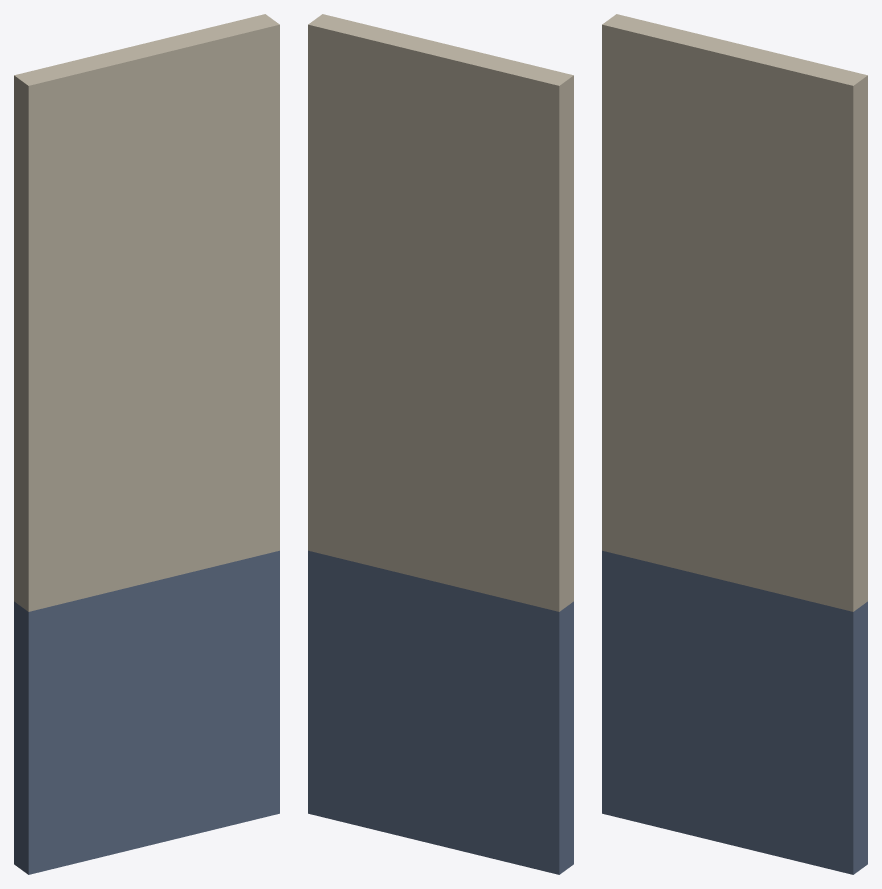
File: Mesh_Wall2Colors_F1.fbx
3 views of the same model, side by side, from view 1: azimuth 30°, elevation 25°; view 2: azimuth 150°, elevation 25°; view 3: azimuth 330°, elevation 25° (orthographic).
Parts seen in each view (by area): view 1: Mesh_Wall2Colors_F1; view 2: Mesh_Wall2Colors_F1; view 3: Mesh_Wall2Colors_F1.
Boxes of the visible parts, x1=… form: Mesh_Wall2Colors_F1: x1=14, y1=14, x2=279, y2=874; Mesh_Wall2Colors_F1: x1=308, y1=14, x2=573, y2=874; Mesh_Wall2Colors_F1: x1=602, y1=14, x2=867, y2=874.
Bounding box in the file's own units: 1 × 3 × 0.1.
